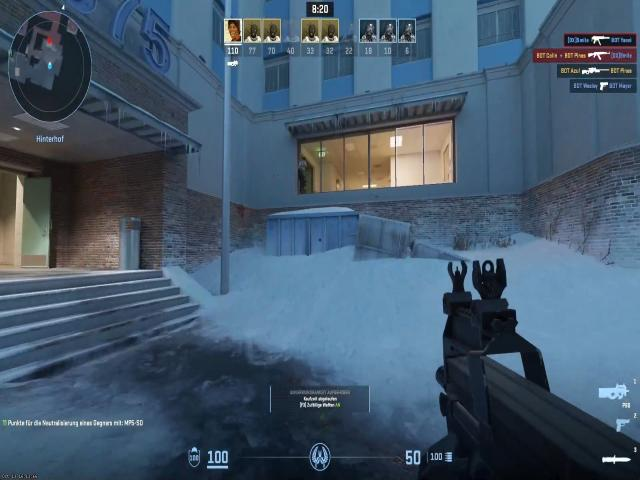T: (298, 155, 306, 191)
